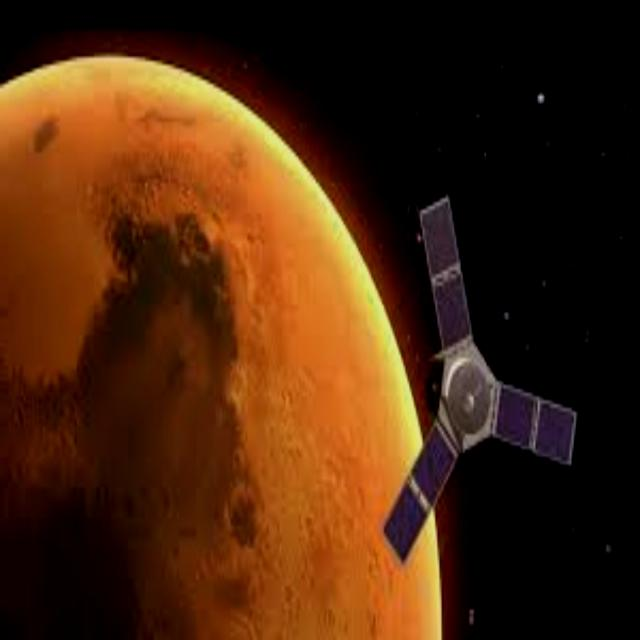satellite: (372, 183, 590, 603)
